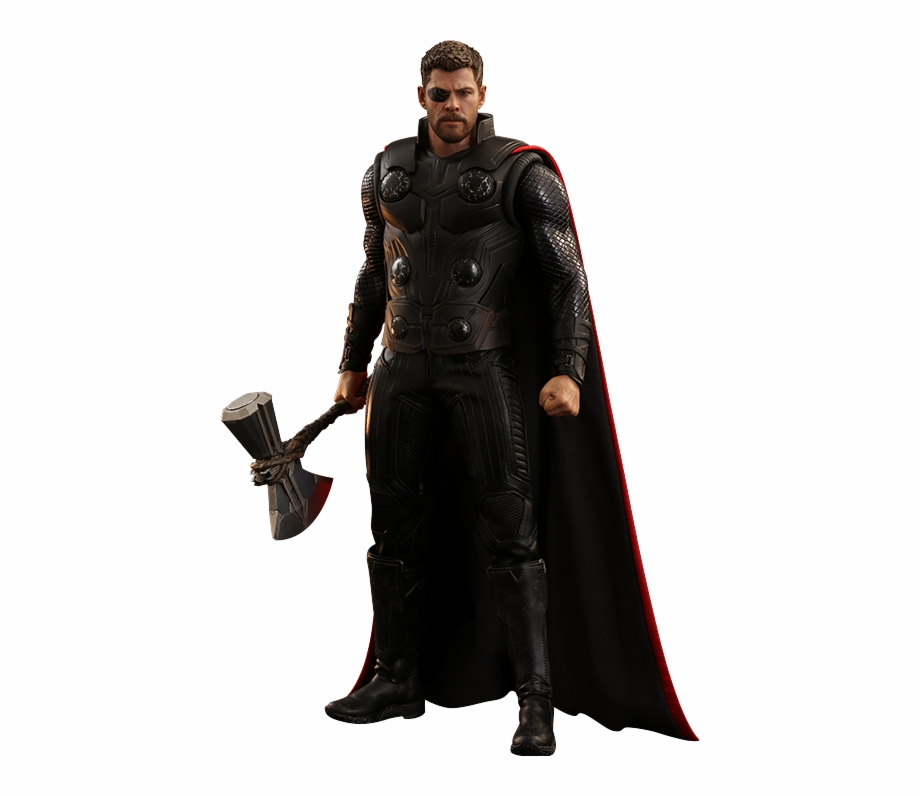THOR Hammer: (219, 353, 371, 563)
